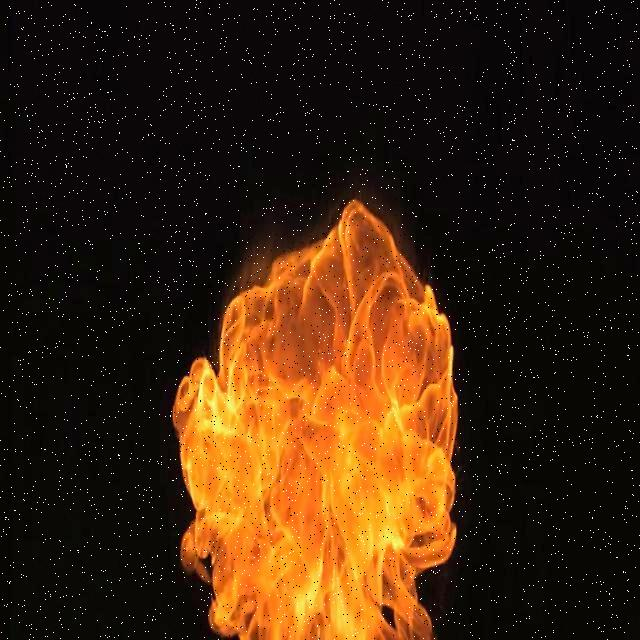fire: (162, 185, 464, 640)
